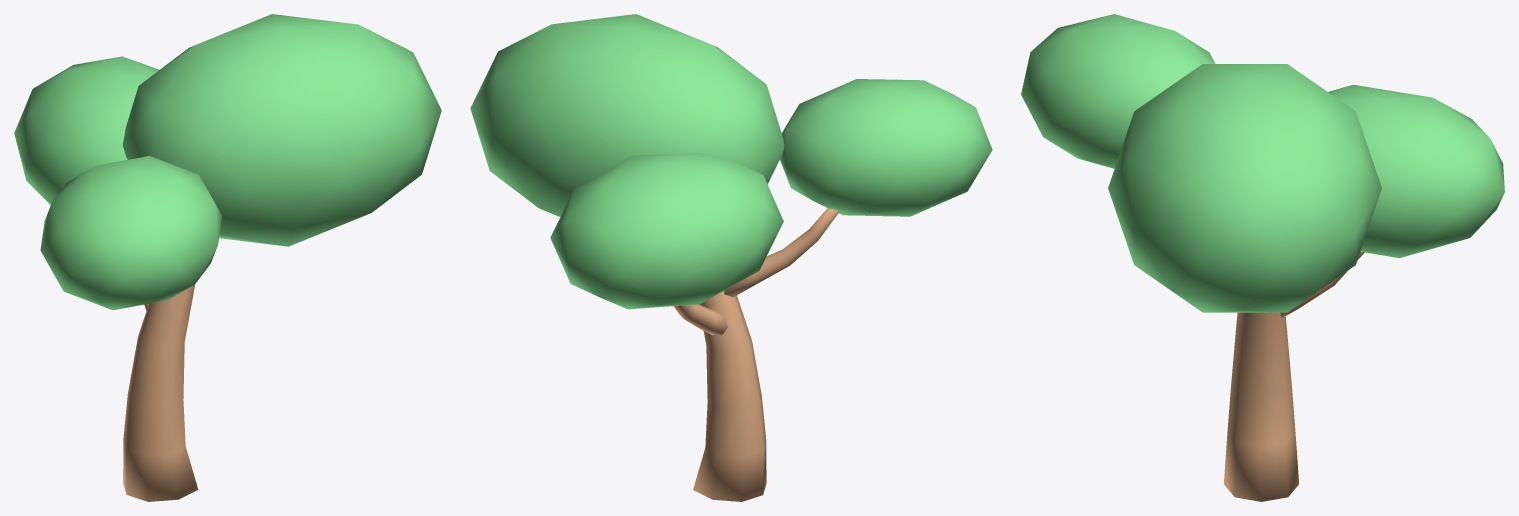
Rendered from Pohon_2.fbx.
The picture shows the model from 3 angles, left to right: view 1: azimuth 30°, elevation 25°; view 2: azimuth 150°, elevation 25°; view 3: azimuth 270°, elevation 25°; orthographic projection. The views are drawn at different scales.
Visible parts, largest first — view 1: Tree 3; view 2: Tree 3; view 3: Tree 3.
Boxes of the visible parts, box(x1,y1,x2,y2) form: Tree 3: box(14, 14, 441, 501); Tree 3: box(470, 14, 992, 501); Tree 3: box(1021, 14, 1504, 501).
Size of the model in its own units: 1023 by 987 by 938.
